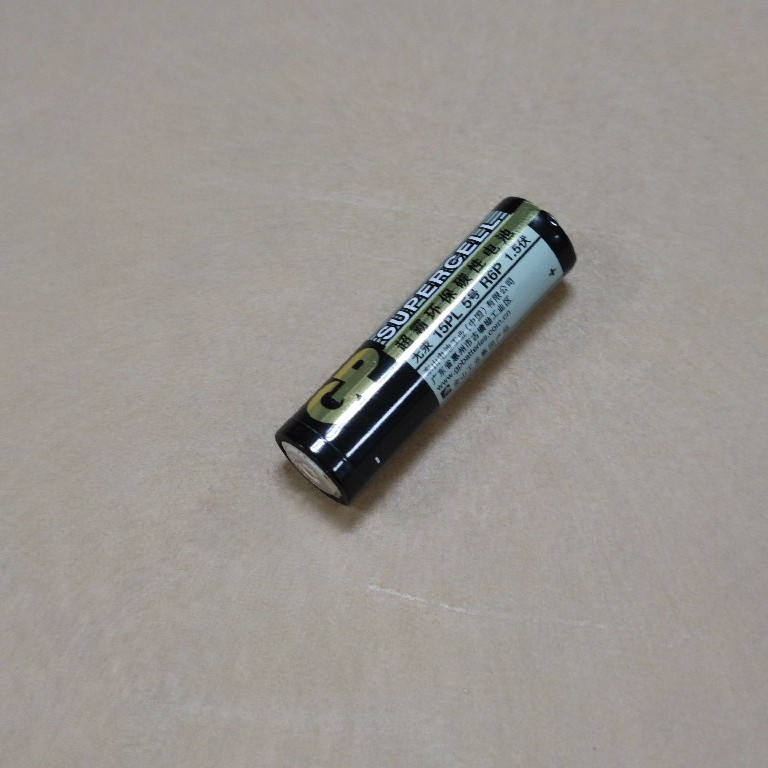charge: (271, 191, 581, 509)
